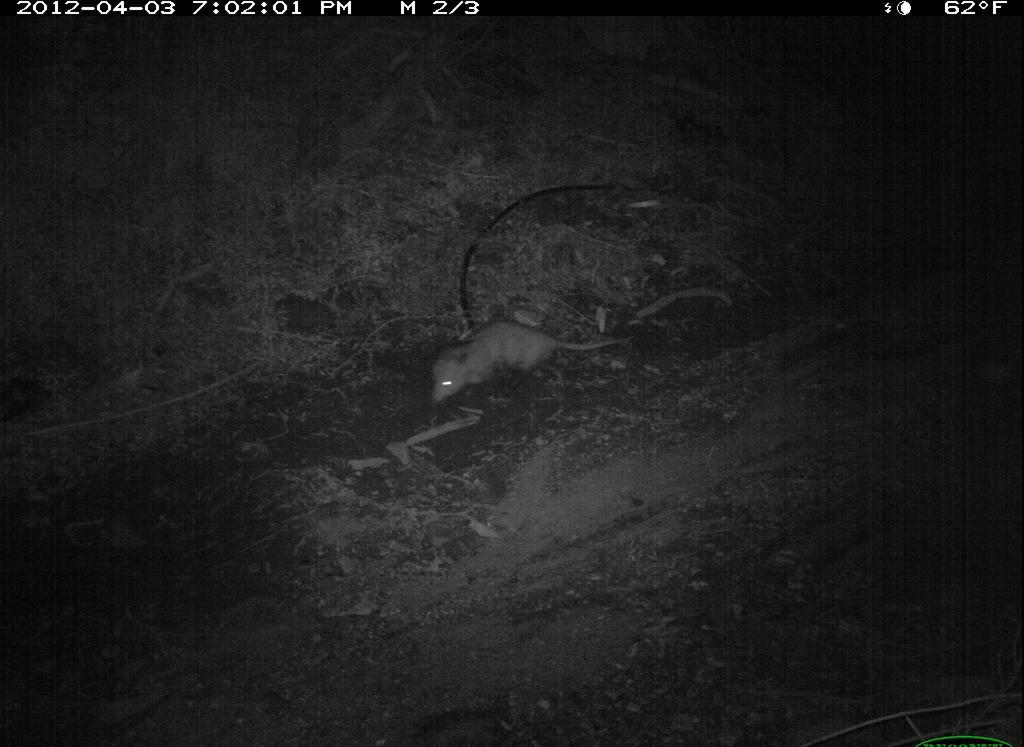opossum: (425, 312, 634, 409)
